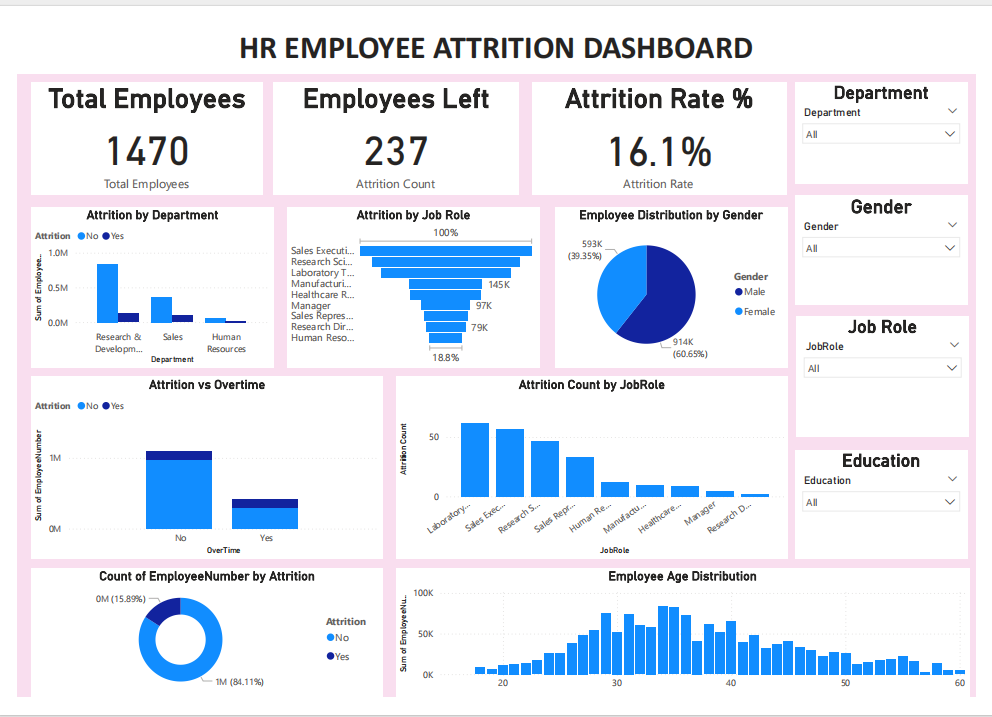

Layout of this report page (visuals, bound fields, positions):
{"tool":"powerbi","page":{"name":"Page 1","canvas":[1280,900],"ordinal":0},"visuals":[{"type":"textbox","box":[0,0,1280.3,67.2],"z":0},{"type":"card","title":"Total Employees","fields":{"Values":["cleaned_hr_attrition.Total Employees"]},"box":[17.8,78.2,308.7,150.9],"z":1},{"type":"card","title":"Employees Left","fields":{"Values":["cleaned_hr_attrition.Attrition Count"]},"box":[341.7,78.2,328,150.9],"z":2},{"type":"card","title":"Attrition Rate %","fields":{"Values":["cleaned_hr_attrition.Attrition Rate"]},"box":[687.5,78.2,340.3,150.9],"z":3},{"type":"slicer","title":"Education","fields":{"Values":["cleaned_hr_attrition.Education"]},"box":[1039.4,570.1,230.8,145.2],"z":4},{"type":"slicer","title":"Job Role","fields":{"Values":["cleaned_hr_attrition.JobRole"]},"box":[1040.9,391.3,230.8,160.5],"z":5},{"type":"slicer","title":"Department","fields":{"Values":["cleaned_hr_attrition.Department"]},"box":[1039.4,78,230.8,136],"z":6},{"type":"slicer","title":"Gender","fields":{"Values":["cleaned_hr_attrition.Gender"]},"box":[1039.4,229.3,230.8,146.7],"z":7},{"type":"clusteredColumnChart","title":"Attrition by Department","fields":{"Category":["cleaned_hr_attrition.Department"],"Y":["Sum(cleaned_hr_attrition.EmployeeNumber)"],"Series":["cleaned_hr_attrition.Attrition"]},"box":[18.3,244.6,324.1,215.5],"z":8},{"type":"funnel","title":"Attrition by Job Role","fields":{"Category":["cleaned_hr_attrition.JobRole"],"Y":["Sum(cleaned_hr_attrition.EmployeeNumber)"]},"box":[360.7,244.6,336.3,215.5],"z":9},{"type":"pieChart","title":"Employee Distribution by Gender","fields":{"Category":["cleaned_hr_attrition.Gender"],"Y":["Sum(cleaned_hr_attrition.EmployeeNumber)"]},"box":[718.4,244.6,310.3,215.5],"z":10},{"type":"columnChart","title":"Attrition vs Overtime","fields":{"Category":["cleaned_hr_attrition.OverTime"],"Y":["Sum(cleaned_hr_attrition.EmployeeNumber)"],"Series":["cleaned_hr_attrition.Attrition"]},"box":[18.3,472.3,469.3,243],"z":11},{"type":"columnChart","fields":{"Category":["cleaned_hr_attrition.JobRole"],"Y":["cleaned_hr_attrition.Attrition Count"]},"box":[505.9,472.3,522.8,243],"z":12},{"type":"donutChart","title":"Count of EmployeeNumber by Attrition","fields":{"Category":["cleaned_hr_attrition.Attrition"],"Y":["Sum(cleaned_hr_attrition.EmployeeNumber)"]},"box":[18.3,727.6,469.3,172.7],"z":13},{"type":"clusteredColumnChart","title":"Employee Age Distribution","fields":{"Category":["cleaned_hr_attrition.Age"],"Y":["Sum(cleaned_hr_attrition.EmployeeNumber)"]},"box":[505.9,727.6,765.8,172.7],"z":14}]}

Visuals, with their boxes in screenshot pixels (x1, y1, x2, y2), scaled from the page's 1280x900 canvas onto the 992x717 screenshot:
textbox: {"left": 0, "top": 0, "right": 991, "bottom": 54}
"Total Employees" card: {"left": 14, "top": 62, "right": 253, "bottom": 183}
"Employees Left" card: {"left": 265, "top": 62, "right": 519, "bottom": 183}
"Attrition Rate %" card: {"left": 533, "top": 62, "right": 797, "bottom": 183}
"Education" slicer: {"left": 806, "top": 454, "right": 984, "bottom": 570}
"Job Role" slicer: {"left": 807, "top": 312, "right": 986, "bottom": 440}
"Department" slicer: {"left": 806, "top": 62, "right": 984, "bottom": 170}
"Gender" slicer: {"left": 806, "top": 183, "right": 984, "bottom": 300}
"Attrition by Department" clusteredColumnChart: {"left": 14, "top": 195, "right": 265, "bottom": 367}
"Attrition by Job Role" funnel: {"left": 280, "top": 195, "right": 540, "bottom": 367}
"Employee Distribution by Gender" pieChart: {"left": 557, "top": 195, "right": 797, "bottom": 367}
"Attrition vs Overtime" columnChart: {"left": 14, "top": 376, "right": 378, "bottom": 570}
columnChart - cleaned_hr_attrition.JobRole x cleaned_hr_attrition.Attrition Count: {"left": 392, "top": 376, "right": 797, "bottom": 570}
"Count of EmployeeNumber by Attrition" donutChart: {"left": 14, "top": 580, "right": 378, "bottom": 716}
"Employee Age Distribution" clusteredColumnChart: {"left": 392, "top": 580, "right": 986, "bottom": 716}
